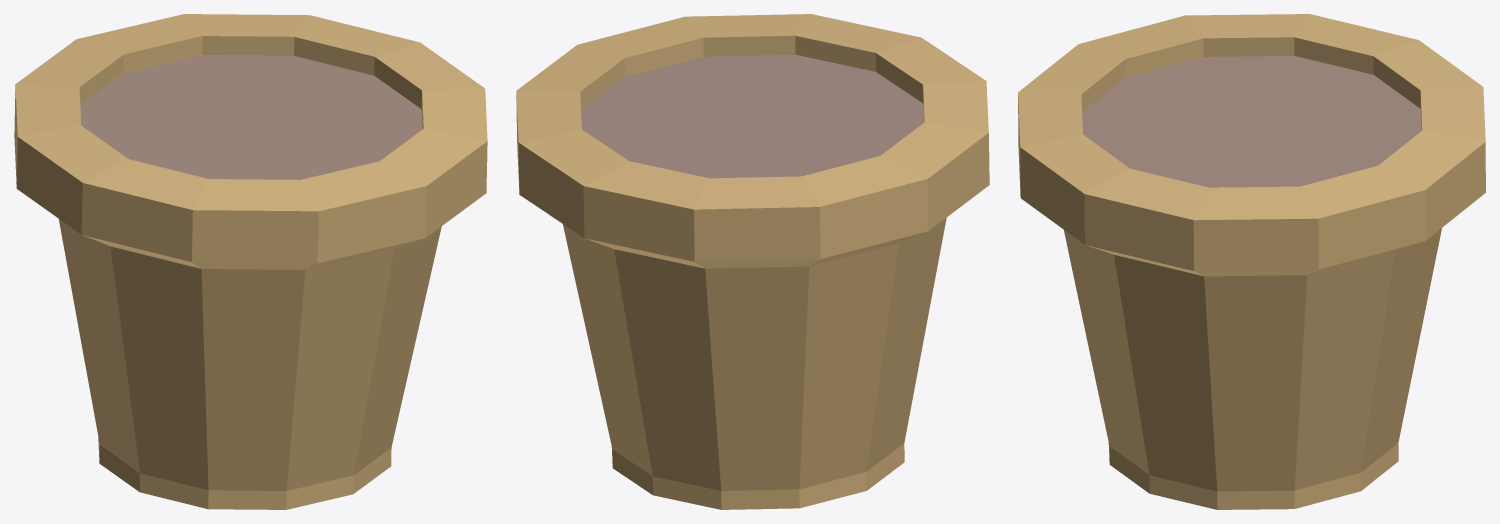
File: Pot.fbx
3 renders of one model, left to right at view 1: azimuth 30°, elevation 25°; view 2: azimuth 150°, elevation 25°; view 3: azimuth 270°, elevation 25°, orthographic.
Visible parts, largest first — view 1: polySurface681; view 2: polySurface681; view 3: polySurface681.
Part boxes in pixels (left/top/right/bottom): polySurface681: left=14, top=14, right=487, bottom=509; polySurface681: left=516, top=14, right=989, bottom=509; polySurface681: left=1018, top=14, right=1485, bottom=509.
Size of the model in its own units: 0.0998 by 0.0805 by 0.0997.
